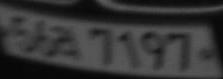1: (115, 29, 142, 69)
5: (10, 15, 33, 53)
6: (33, 18, 57, 57)
7: (167, 32, 193, 71), (88, 28, 113, 64)
9: (143, 30, 166, 71)
라: (57, 24, 83, 60)
